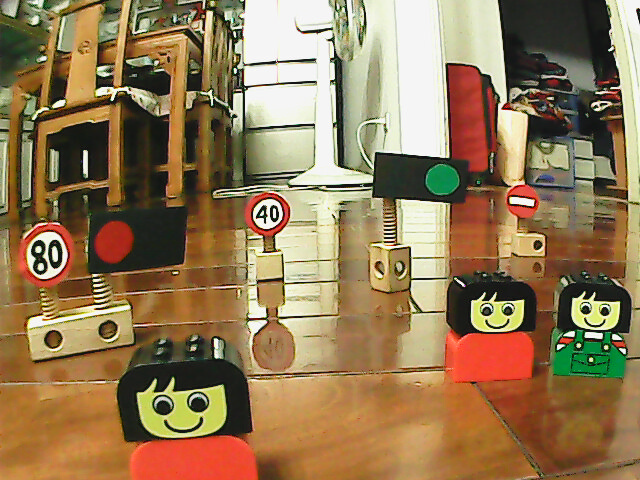Green Traffic Light: (420, 159, 463, 202)
Person: (115, 333, 263, 480), (442, 268, 537, 384), (545, 268, 634, 382)
Red Traffic Light: (89, 214, 138, 269)
Speed Limit 40: (243, 189, 293, 238)
Speed Limit 80: (16, 219, 76, 290)
Stop Sign: (503, 182, 542, 220)
